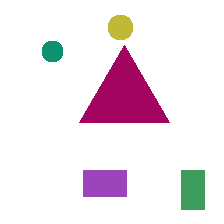circle: (108, 15, 132, 39), (42, 41, 62, 61)
rectangle: (83, 170, 126, 196), (181, 170, 204, 209)
triangle: (79, 45, 169, 122)
